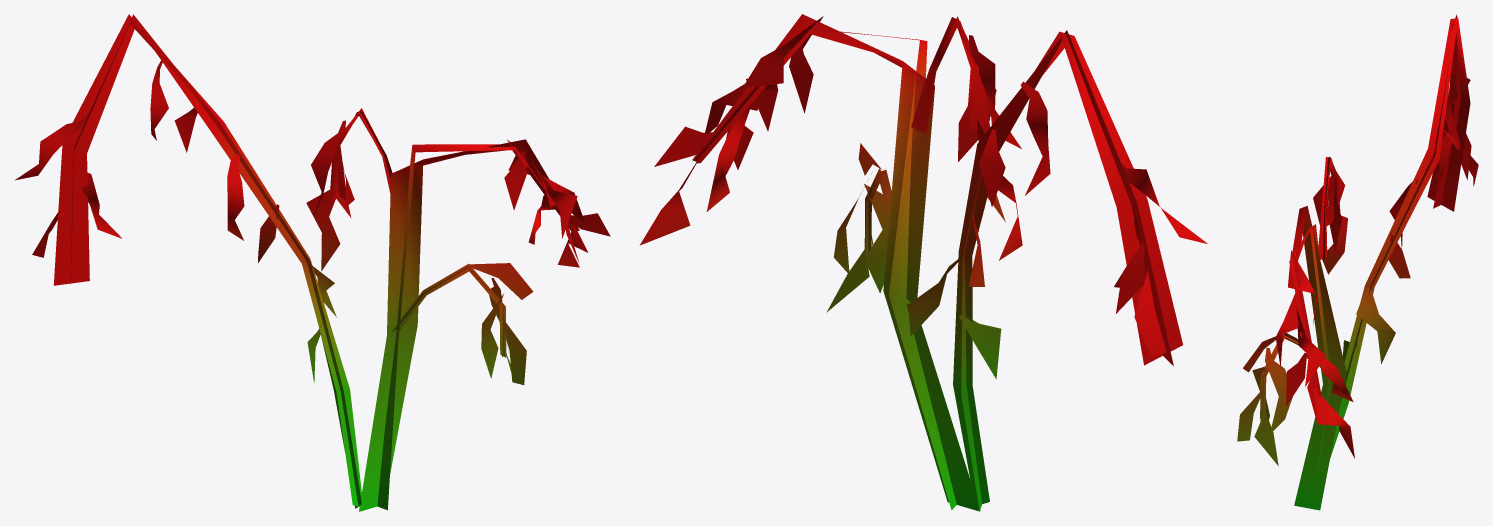
File: Var6_LOD1.fbx
3 renders of one model, left to right at view 1: azimuth 30°, elevation 25°; view 2: azimuth 150°, elevation 25°; view 3: azimuth 270°, elevation 25°, orthographic. The views are drawn at different scales.
Parts seen in each view (by area): view 1: _51c9_Var6_LOD1; view 2: _51c9_Var6_LOD1; view 3: _51c9_Var6_LOD1.
Part boxes in pixels (x1,y1,x2,y2): _51c9_Var6_LOD1: (15,14,610,511); _51c9_Var6_LOD1: (639,14,1207,511); _51c9_Var6_LOD1: (1237,14,1478,510).
Size of the model in its own units: 20.92 by 18.41 by 9.51.
